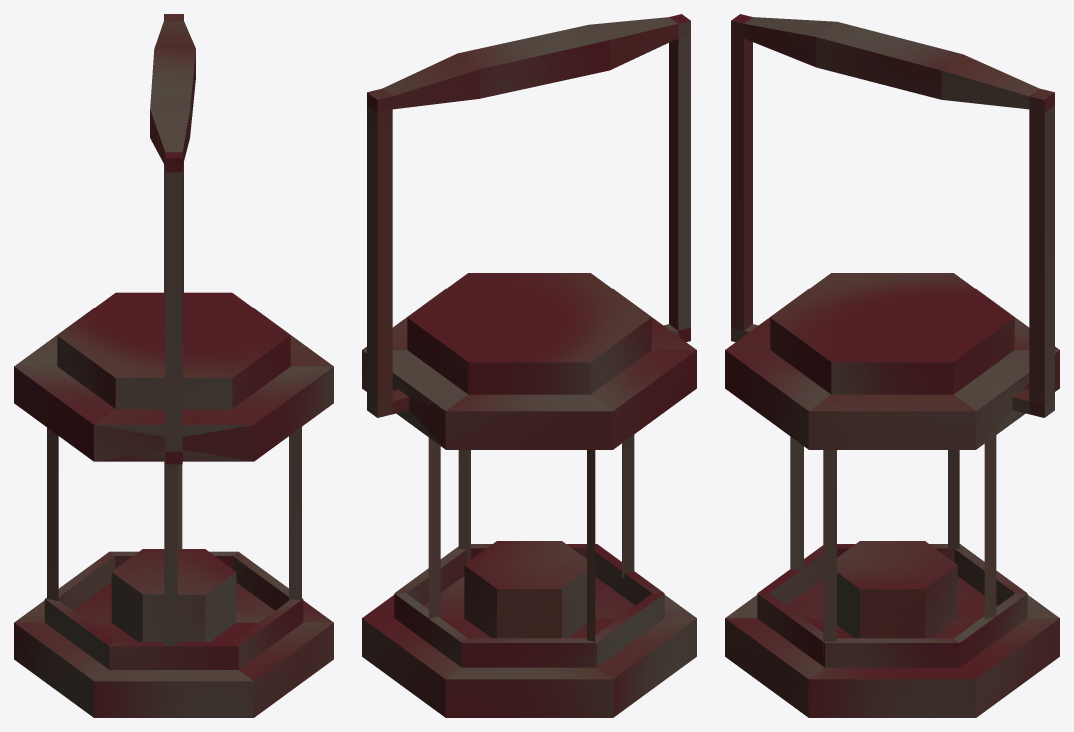
The model's file is lantern.fbx.
3 views of the same model, side by side, from view 1: azimuth 30°, elevation 25°; view 2: azimuth 150°, elevation 25°; view 3: azimuth 270°, elevation 25° (orthographic). The views are drawn at different scales.
Parts seen in each view (by area): view 1: Cylinder.002; view 2: Cylinder.002; view 3: Cylinder.002.
Part boxes in pixels (x1,y1,x2,y2): Cylinder.002: (14,14,333,717); Cylinder.002: (362,14,696,717); Cylinder.002: (725,14,1059,717).
Bounding box in the file's own units: 13.78 × 31.96 × 15.91.
